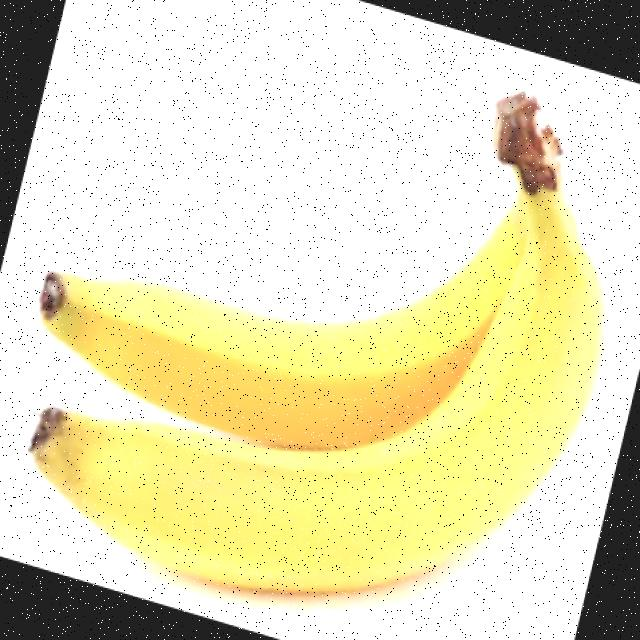god quality banana: (29, 92, 604, 593)
